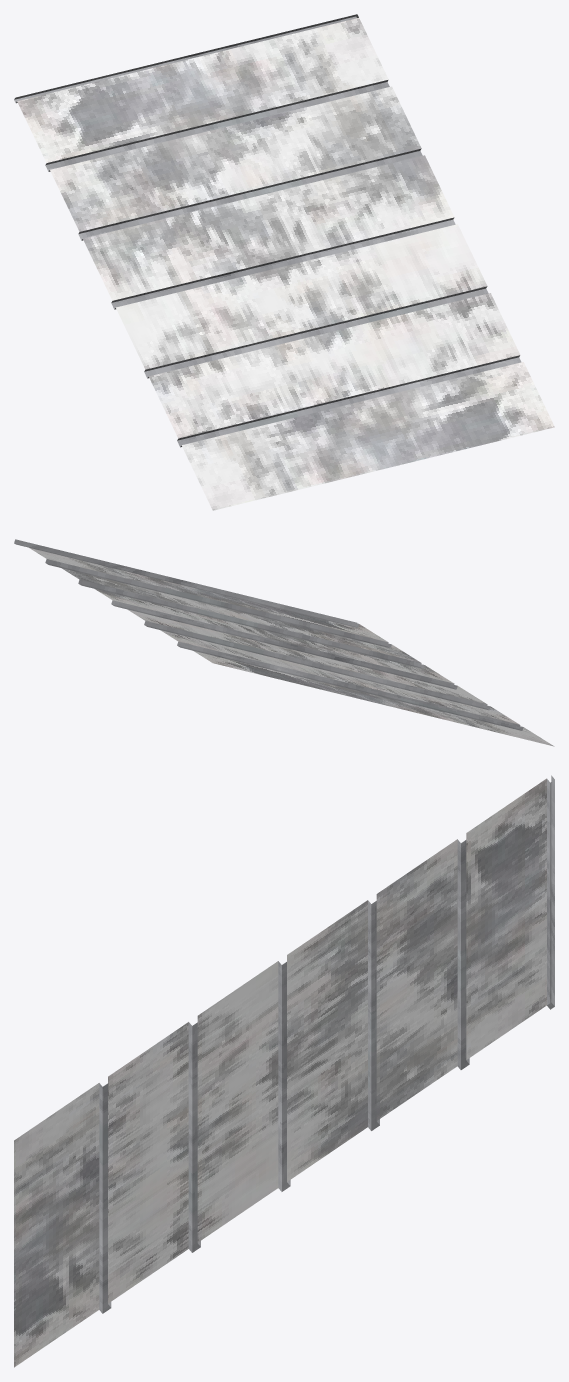
The model's file is Factory_Roof_4x4m.glb.
3 renders of one model, top to bottom at view 1: azimuth 30°, elevation 25°; view 2: azimuth 150°, elevation 25°; view 3: azimuth 270°, elevation 25°, orthographic. The views are drawn at different scales.
Visible parts, largest first — view 1: Factory_Roof_4x4m; view 2: Factory_Roof_4x4m; view 3: Factory_Roof_4x4m.
Part boxes in pixels (left/top/right/bottom): Factory_Roof_4x4m: left=14, top=14, right=554, bottom=510; Factory_Roof_4x4m: left=14, top=539, right=554, bottom=746; Factory_Roof_4x4m: left=14, top=775, right=554, bottom=1367.
Size of the model in its own units: 4 by 3 by 4.03.
Materials: 2 (2 with a texture image).
